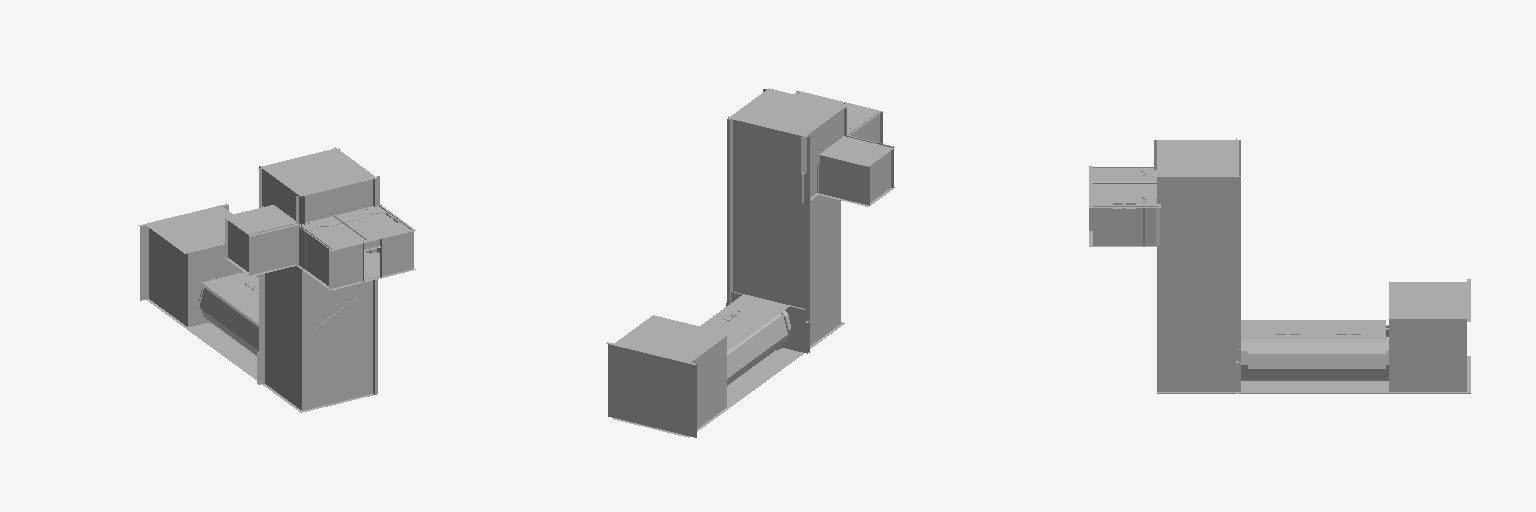
File: HC_cont1_895.obj
3 renders of one model, left to right at view 1: azimuth 30°, elevation 25°; view 2: azimuth 150°, elevation 25°; view 3: azimuth 270°, elevation 25°, orthographic.
Parts seen in each view (by area): view 1: room895_opt; view 2: room895_opt; view 3: room895_opt.
Part boxes in pixels (x1,y1,x2,y2): room895_opt: (138, 147, 415, 412); room895_opt: (606, 88, 894, 437); room895_opt: (1089, 138, 1470, 393).
Bounding box in the file's own units: 14.44 × 22.41 × 35.84.